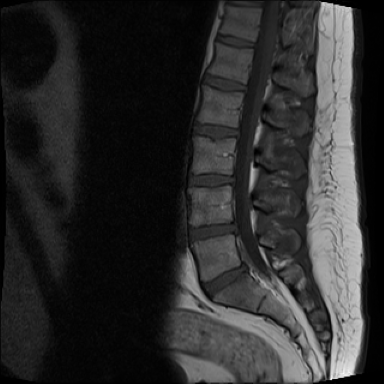Lumbar Disc Bulge (LDB): (198, 260, 254, 305), (187, 218, 247, 248)
Normal IVD: (181, 169, 241, 192), (198, 72, 251, 98), (189, 120, 245, 144), (214, 31, 260, 53)
Spinal Stenosis (SS): (229, 217, 246, 241), (237, 260, 253, 281)
